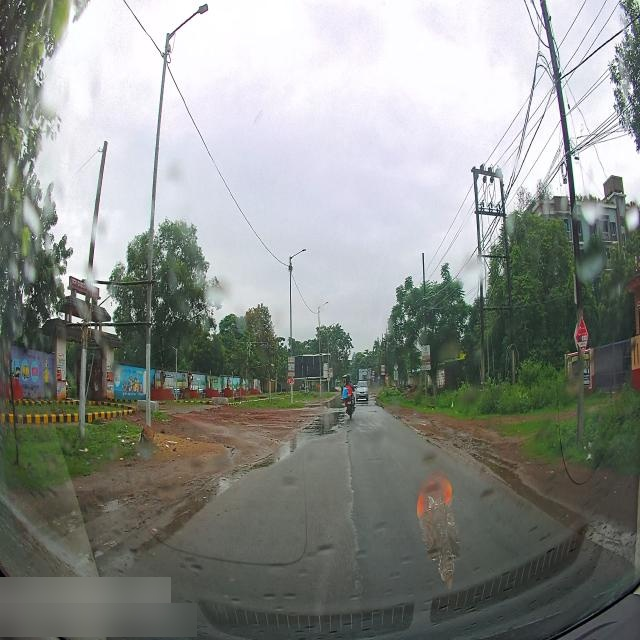pothole: (129, 450, 264, 566), (476, 443, 613, 545), (267, 409, 356, 469)
